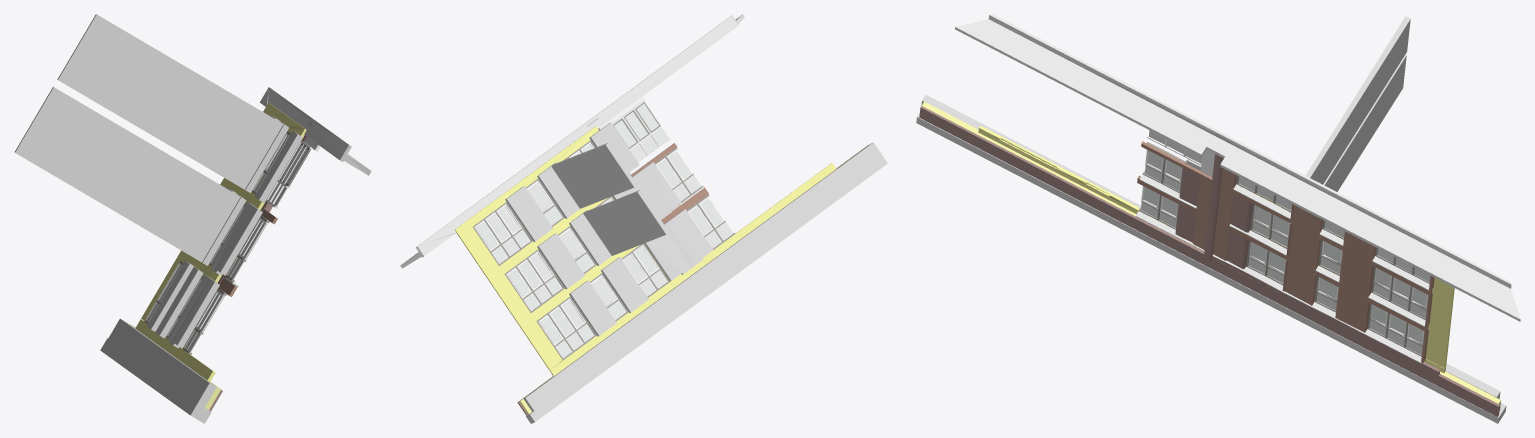
The picture shows the model from 3 angles, left to right: view 1: azimuth 30°, elevation 25°; view 2: azimuth 150°, elevation 25°; view 3: azimuth 270°, elevation 25°; orthographic projection. The views are drawn at different scales.
Parts seen in each view (by area): view 1: mesh; view 2: mesh; view 3: mesh.
Boxes of the visible parts, box(x1,y1,x2,y2) form: mesh: box(14, 14, 371, 423); mesh: box(400, 14, 887, 423); mesh: box(916, 14, 1520, 423).
Bounding box in the file's own units: 16.69 × 16.29 × 22.55.
